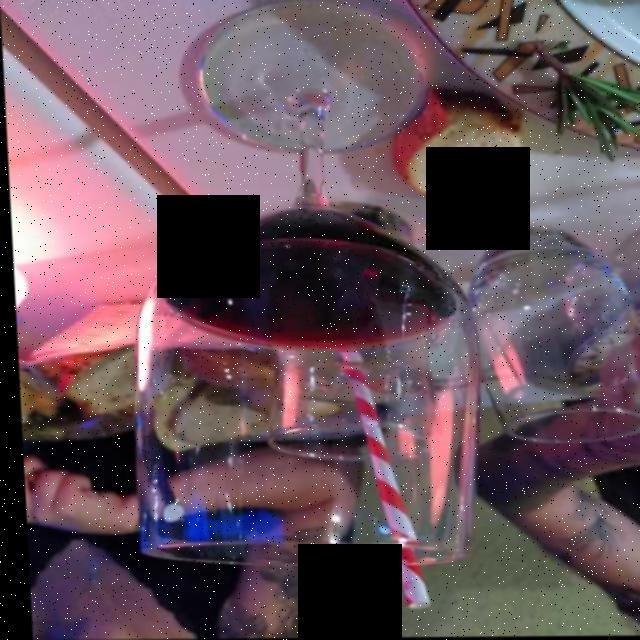wine: (149, 213, 461, 347)
